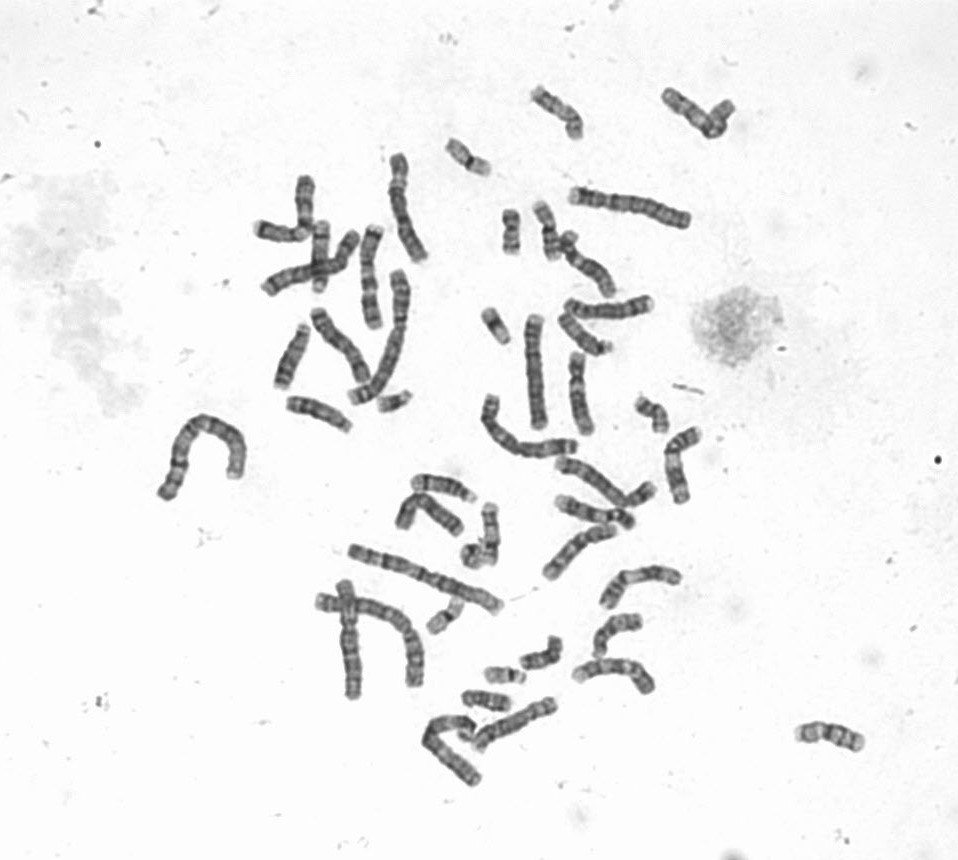chromosomes: (352, 543, 514, 626), (146, 387, 252, 510), (302, 590, 431, 688), (347, 260, 414, 410), (554, 180, 700, 233), (548, 454, 667, 517), (479, 390, 583, 461), (257, 230, 364, 299), (648, 82, 747, 156), (249, 160, 324, 253), (387, 144, 441, 271), (556, 653, 667, 713), (411, 708, 494, 787), (591, 562, 702, 618), (518, 82, 593, 159), (559, 220, 625, 304), (308, 301, 371, 384), (475, 697, 563, 753), (542, 524, 620, 586), (327, 580, 365, 703), (390, 491, 473, 547), (664, 419, 711, 513), (585, 608, 651, 672), (558, 310, 629, 368), (355, 221, 389, 335), (789, 717, 876, 761), (565, 348, 607, 439), (270, 319, 318, 396), (558, 490, 641, 532), (284, 395, 363, 439), (306, 206, 338, 308), (406, 465, 480, 509), (445, 134, 505, 188), (528, 309, 550, 431), (495, 194, 528, 268), (522, 630, 575, 676), (533, 200, 567, 267), (634, 392, 676, 445), (430, 594, 477, 641), (562, 295, 661, 316), (482, 665, 542, 695), (481, 492, 502, 573), (458, 689, 518, 716), (482, 305, 519, 348), (455, 541, 488, 580), (375, 389, 417, 419)
